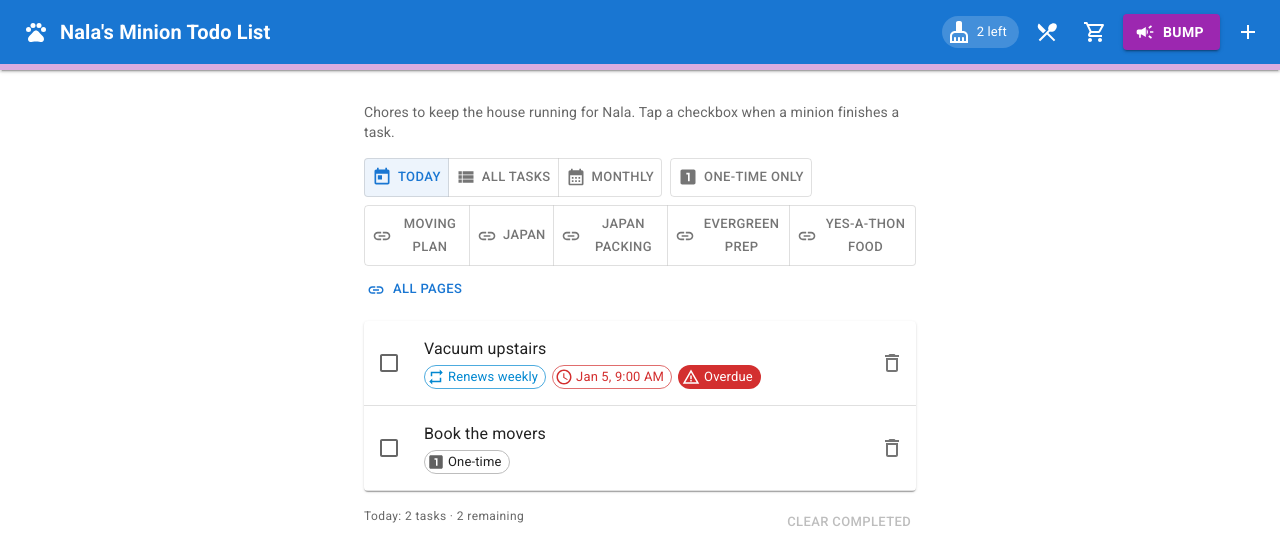
Test: one-time only filter › hides recurring chores while on, and brings them back when off
Click the button with aria-label "all chores".
click(503, 177)  # box [448,158,559,197]
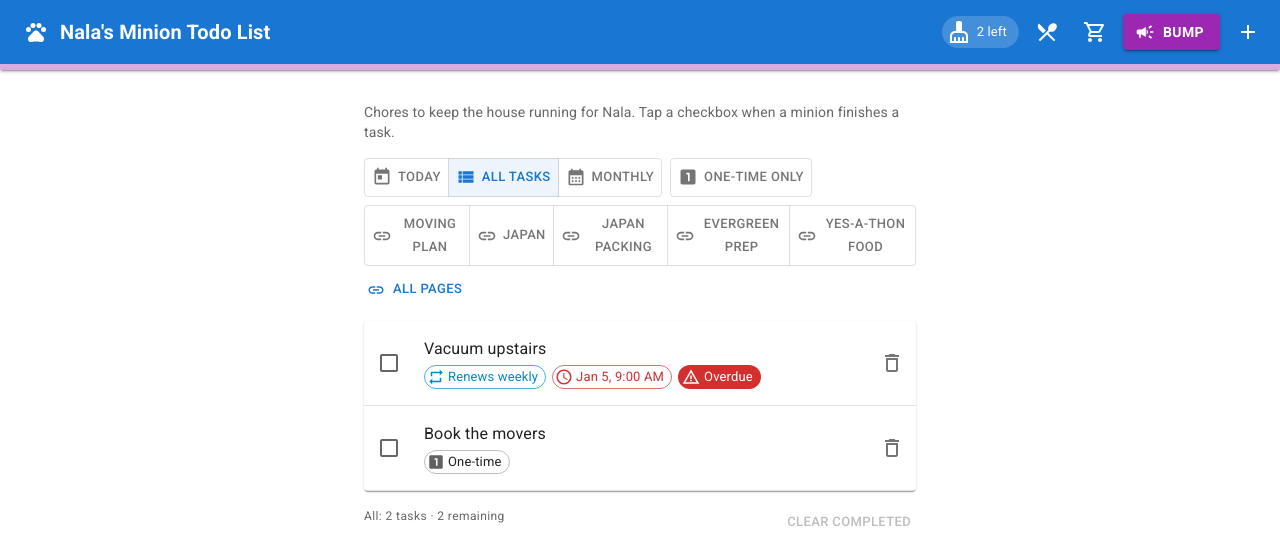
Expected: the text "Vacuum upstairs" is shown, [424,339,546,358]
Expected: the text "Book the movers" is shown, [424,424,546,443]
Click the button with aria-label "one-time chores only".
click(741, 177)  # box [670,158,812,197]
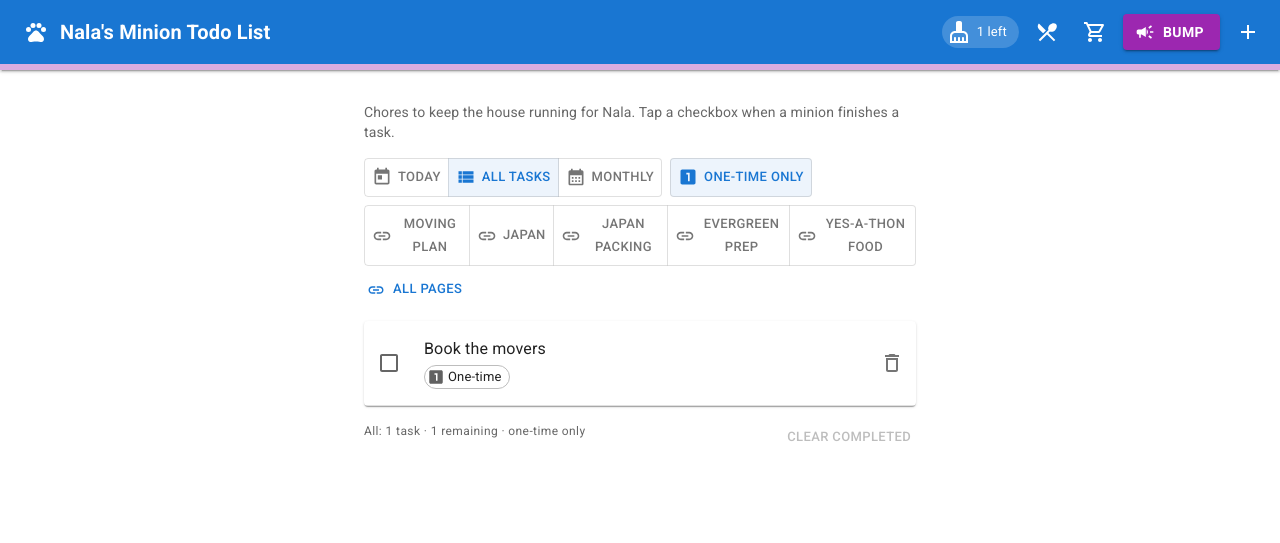
Expected: the text "Book the movers" is shown, [424,339,546,358]
Result: the button "Vacuum upstairs" is gone
Click the button with aria-label "one-time chores only".
click(741, 177)  # box [670,158,812,197]
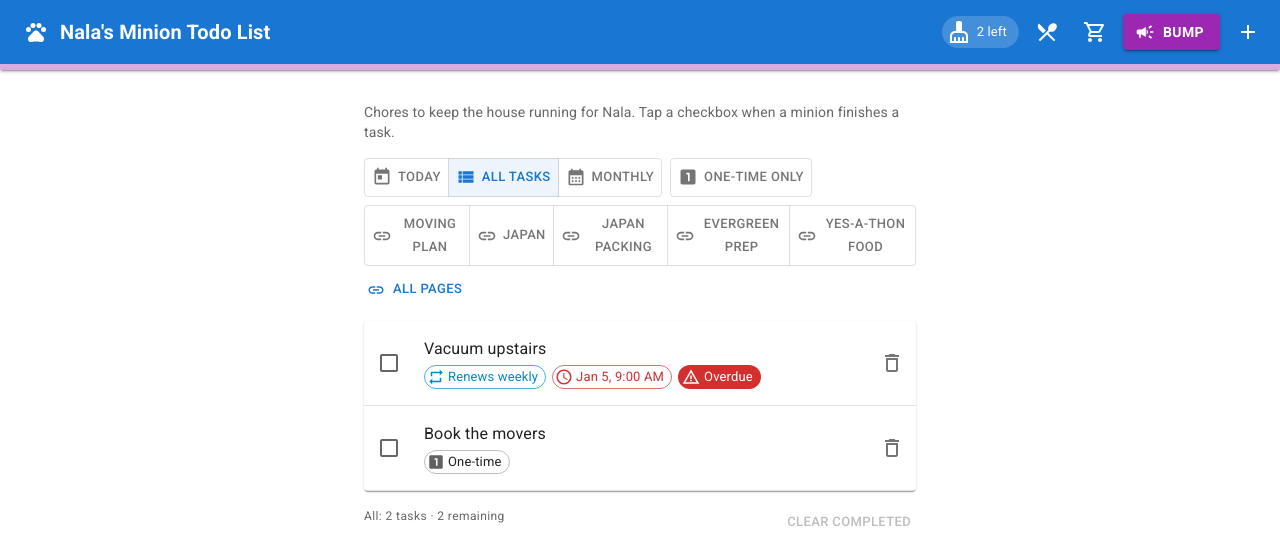
Result: the text "Vacuum upstairs" is shown at [424,339,546,358]
